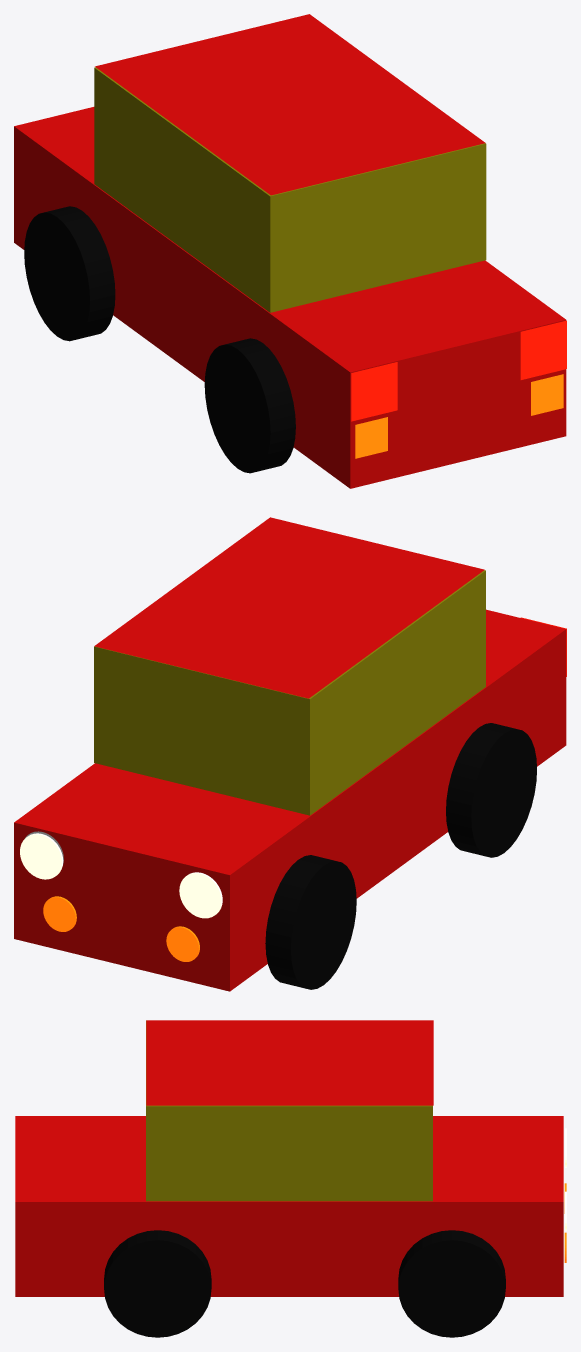
Rendered from new car 5.fbx.
3 renders of one model, top to bottom at view 1: azimuth 30°, elevation 25°; view 2: azimuth 150°, elevation 25°; view 3: azimuth 270°, elevation 25°, orthographic. The views are drawn at different scales.
Parts seen in each view (by area): view 1: Cube, Cube.001, Plane.004, Circle.006, Circle.008, Plane, Plane.001, Plane.003, Plane.002; view 2: Cube, Cube.001, Plane.004, Circle.006, Circle.008, Circle.009, Circle.001, Circle.002, Circle.003; view 3: Cube, Cube.001, Plane.004, Circle.007, Circle.005.
Part boxes in pixels (x1,y1,x2,y2): Cube: (14,107,566,488); Cube.001: (94,67,486,312); Plane.004: (95,14,485,195); Circle.006: (24,206,115,341); Circle.008: (204,338,295,473); Plane: (351,362,397,421); Plane.001: (520,320,566,379); Plane.003: (531,374,563,415); Plane.002: (355,417,387,458); Cube: (14,609,566,991); Cube.001: (94,570,485,815); Plane.004: (94,517,484,698); Circle.006: (265,855,356,989); Circle.008: (446,723,536,857); Circle.009: (179,872,222,918); Circle.001: (20,833,63,879); Circle.002: (166,926,199,961); Circle.003: (43,896,76,931); Cube: (15,1116,563,1296); Cube.001: (146,1020,432,1201); Plane.004: (146,1020,433,1105); Circle.007: (104,1230,211,1337); Circle.005: (398,1230,505,1337).
Size of the model in its own units: 247 by 241 by 544.
